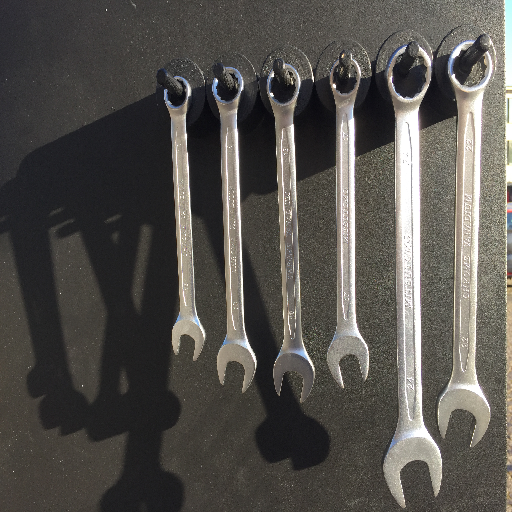bottom: (378, 428, 446, 510), (432, 379, 492, 450), (322, 330, 373, 389), (269, 347, 317, 405), (214, 338, 260, 396), (167, 315, 208, 363)
top: (382, 41, 435, 110), (441, 37, 496, 99), (263, 60, 304, 112), (327, 54, 364, 105), (209, 64, 248, 111), (159, 72, 197, 115)
